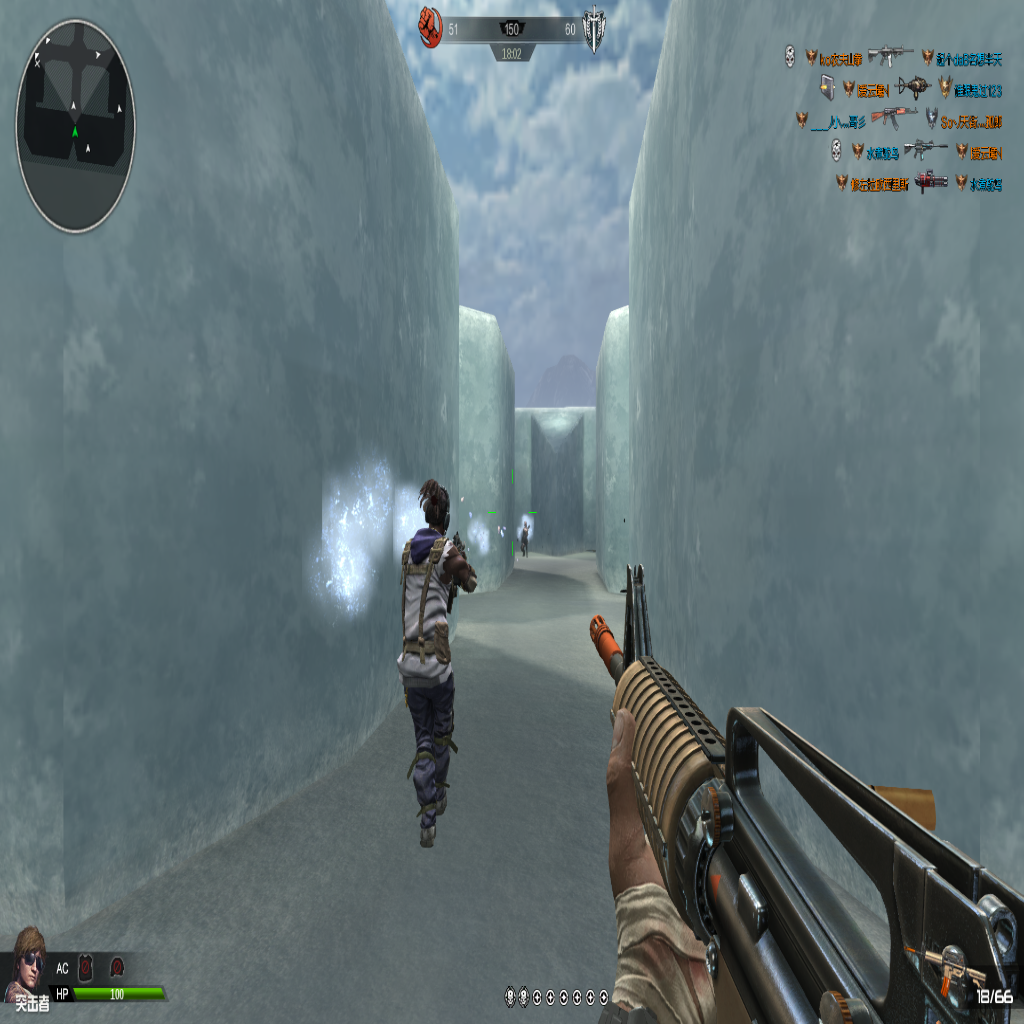ct: (520, 520, 529, 556)
